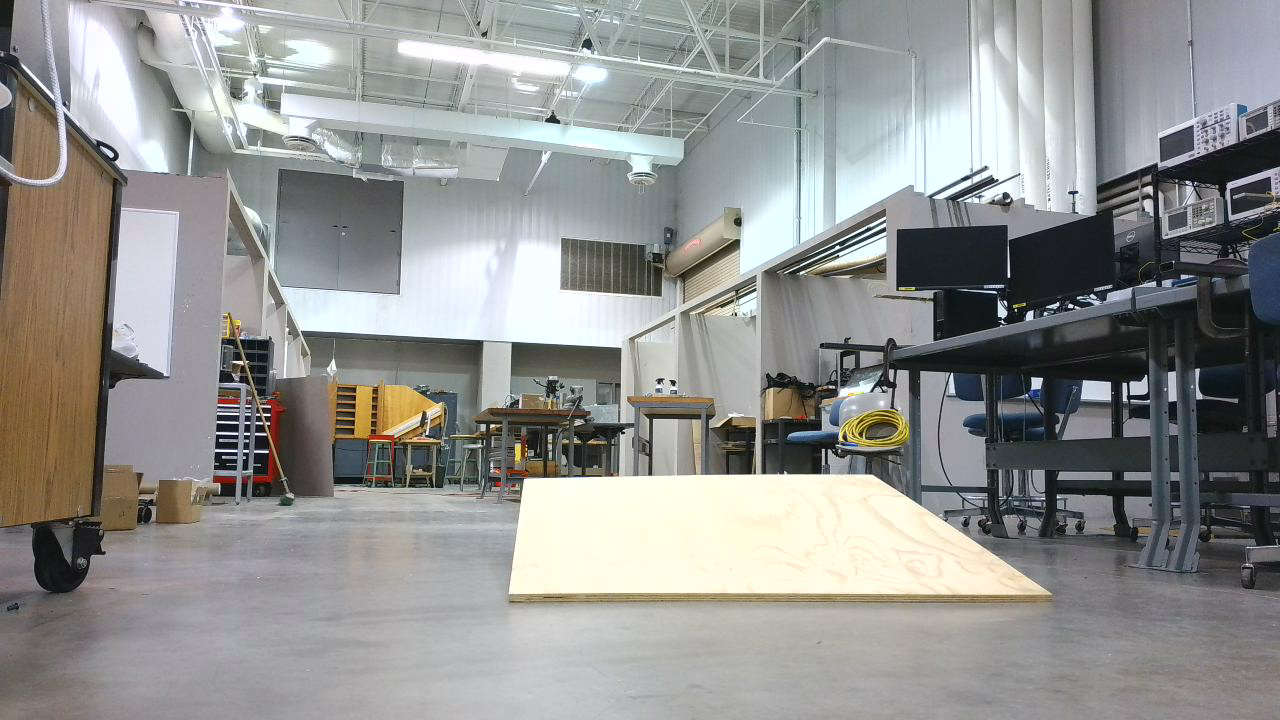ramp: (510, 474, 1062, 611)
